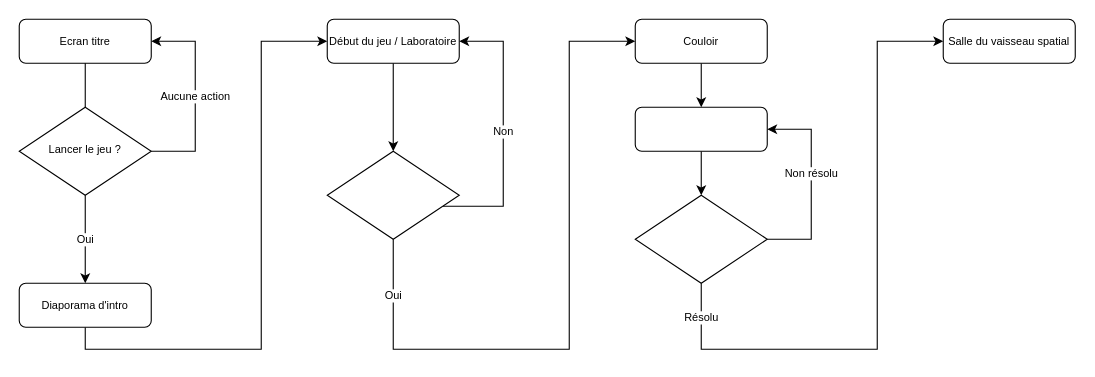
Image size: 1095x377. Some labels were removed from this diagram. The shapes that lost their labels are listed below. From the top down, each one's centre as x and y in pixels, then its label:
At (x=700, y=128): "Charade de la licorne".
At (x=392, y=194): "Est-ce que tous les objets sont collectés".
At (x=700, y=238): "Charade résolu / clic sur la licorne".
